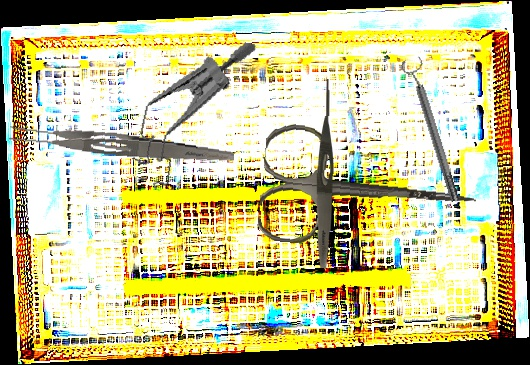Dressing Forceps: (8, 121, 236, 166), (314, 78, 336, 269)
Fixation Ring: (399, 55, 466, 205)
Iris Scissors: (255, 121, 483, 262)
Speculum: (125, 23, 258, 204)
